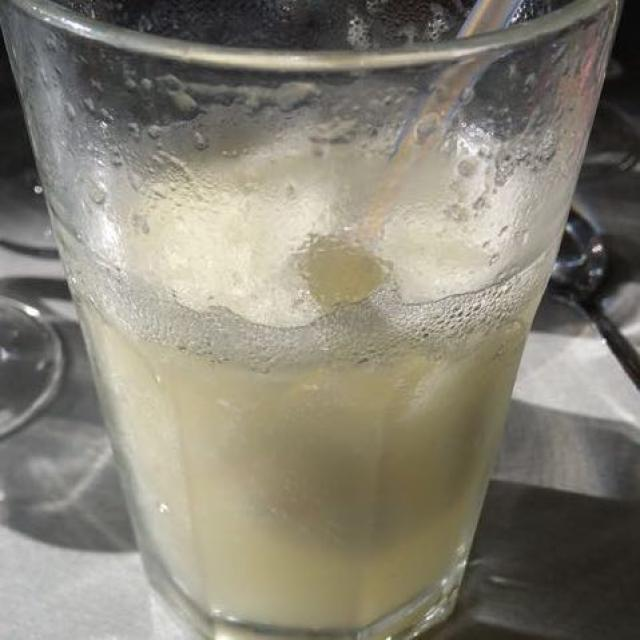water-mineral: (96, 242, 547, 626)
